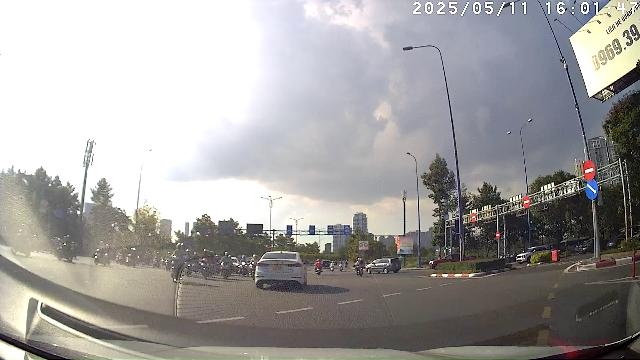102-cam-di-nguoc-chieu: (582, 160, 596, 180), (522, 195, 530, 208)
302a-huong-phai-di-vong-chuong-ngai-vat-1: (586, 179, 598, 199)
